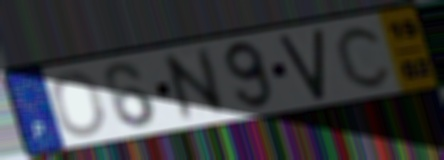6: (103, 59, 159, 132)
9: (222, 39, 276, 113)
C: (333, 23, 395, 91)
N: (159, 44, 232, 126)
O: (49, 69, 109, 139)
V: (276, 25, 328, 103)
